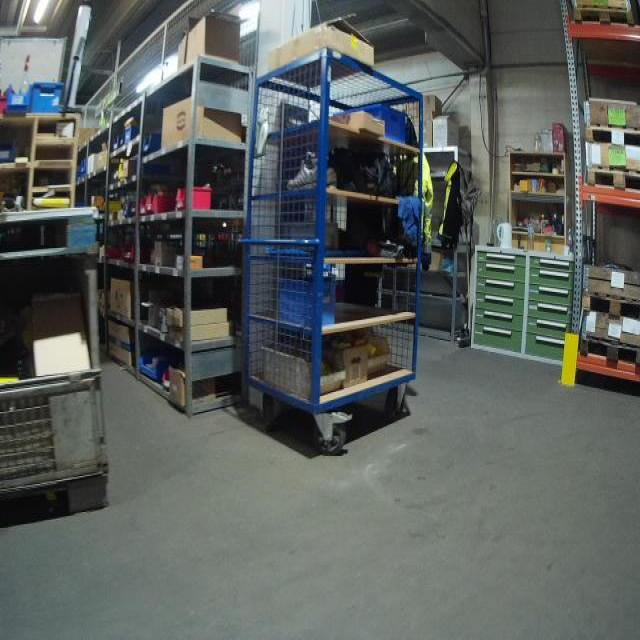pallet: (580, 334, 640, 365), (580, 291, 640, 320), (584, 164, 640, 194), (582, 122, 640, 148), (574, 7, 636, 28)
small_load_carrier: (27, 81, 63, 108)
stillage: (4, 254, 128, 531)
